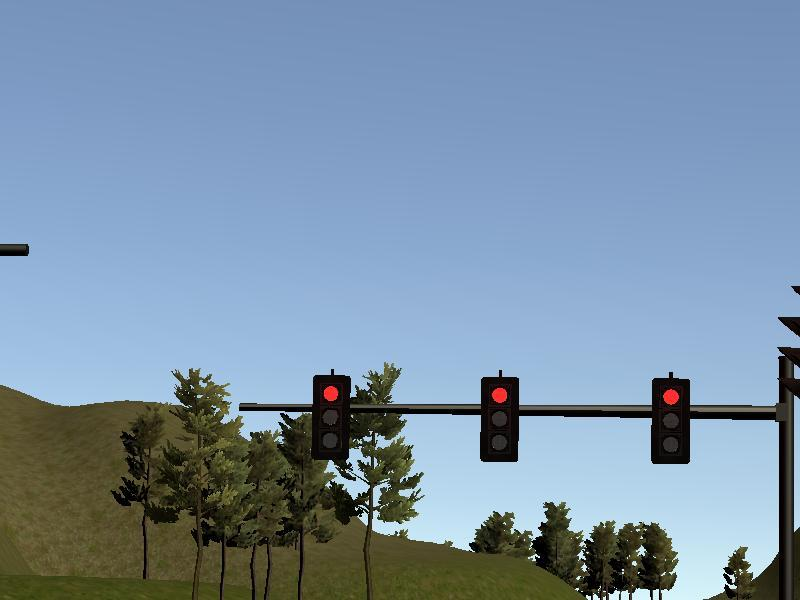Red: (654, 380, 690, 464), (482, 377, 517, 461), (312, 374, 347, 457)
